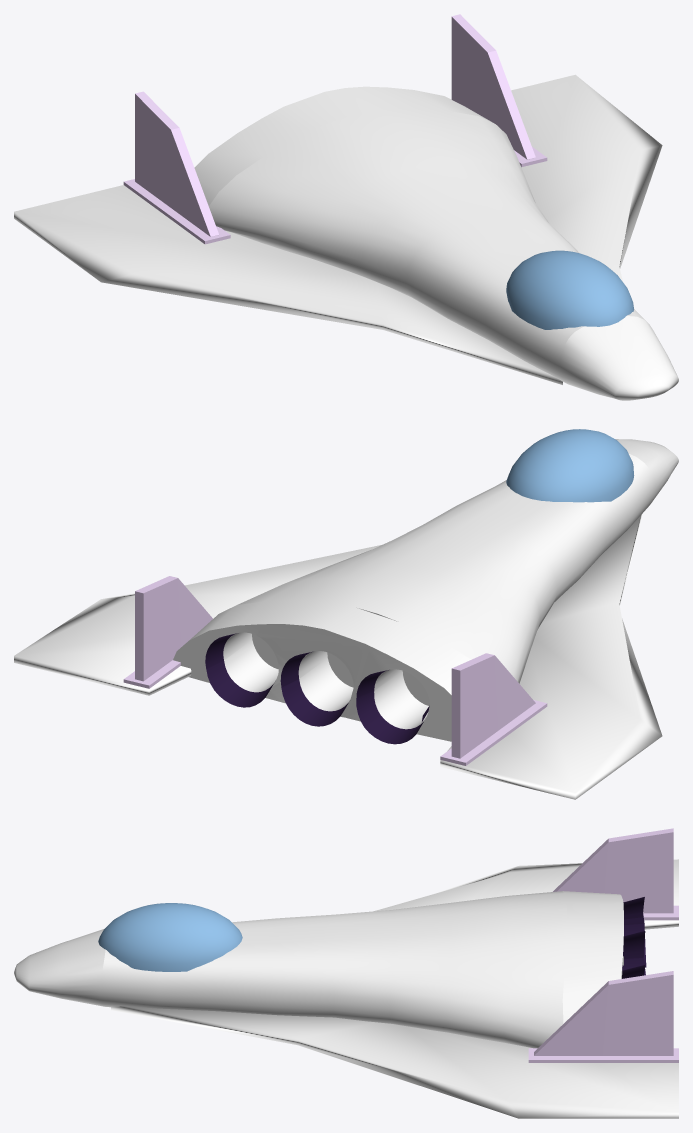
3 views of the same model, one above another, from view 1: azimuth 30°, elevation 25°; view 2: azimuth 150°, elevation 25°; view 3: azimuth 270°, elevation 25° (orthographic). The views are drawn at different scales.
Parts seen in each view (by area): view 1: Cylinder, Cylinder.002, Cube, Sphere; view 2: Cylinder, Cylinder.002, Cube, Sphere, Cylinder.001; view 3: Cylinder, Cylinder.002, Cube, Sphere, Cylinder.001.
Boxes of the visible parts, x1=… form: Cylinder: x1=194, y1=86, x2=678, y2=400; Cylinder.002: x1=14, y1=74, x2=662, y2=384; Cube: x1=123, y1=14, x2=547, y2=244; Sphere: x1=506, y1=250, x2=633, y2=329; Cylinder: x1=173, y1=439, x2=678, y2=741; Cylinder.002: x1=14, y1=514, x2=662, y2=799; Cube: x1=123, y1=576, x2=547, y2=765; Sphere: x1=506, y1=429, x2=634, y2=502; Cylinder.001: x1=205, y1=633, x2=429, y2=744; Cylinder: x1=14, y1=891, x2=623, y2=1048; Cylinder.002: x1=111, y1=859, x2=678, y2=1118; Cube: x1=528, y1=828, x2=678, y2=1062; Sphere: x1=98, y1=903, x2=242, y2=971; Cylinder.001: x1=622, y1=897, x2=646, y2=978.
Bounding box in the file's own units: 1296 × 232 × 1441.
